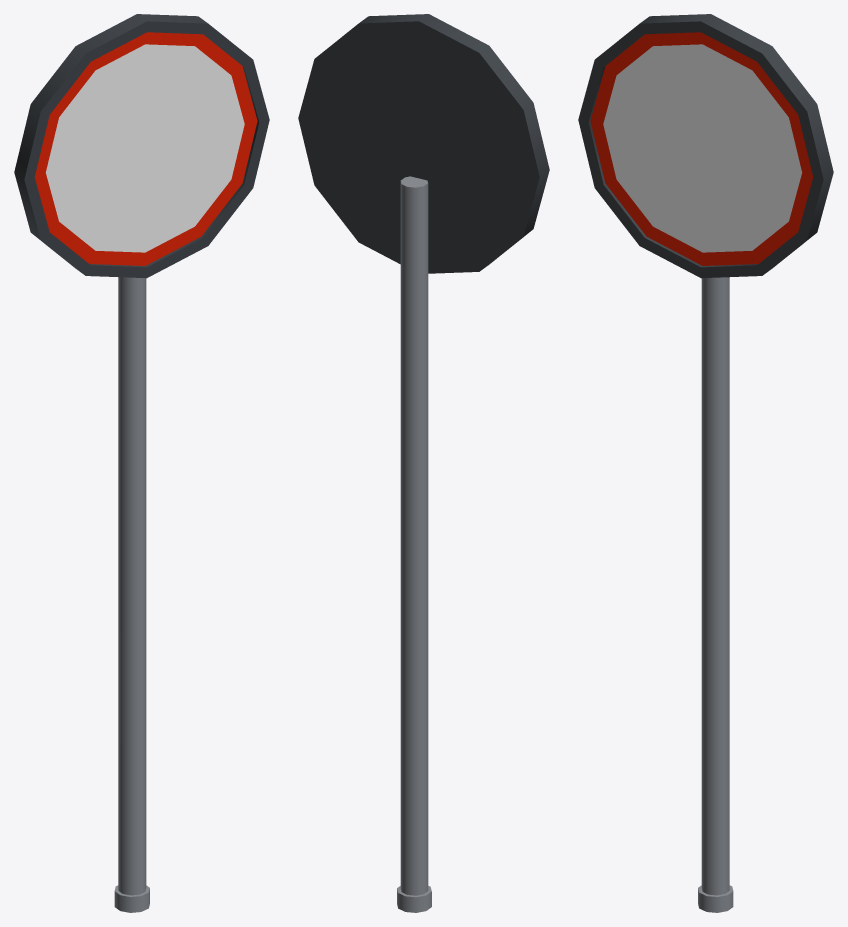
The model's file is Road Sign_2.fbx.
The picture shows the model from 3 angles, left to right: view 1: azimuth 30°, elevation 25°; view 2: azimuth 150°, elevation 25°; view 3: azimuth 330°, elevation 25°; orthographic projection.
Parts seen in each view (by area): view 1: Road Sign_2; view 2: Road Sign_2; view 3: Road Sign_2.
Part boxes in pixels (x1,y1,x2,y2): Road Sign_2: (14,14,269,912); Road Sign_2: (298,14,549,912); Road Sign_2: (578,14,833,912).
Size of the model in its own units: 67.25 by 234 by 11.31.
